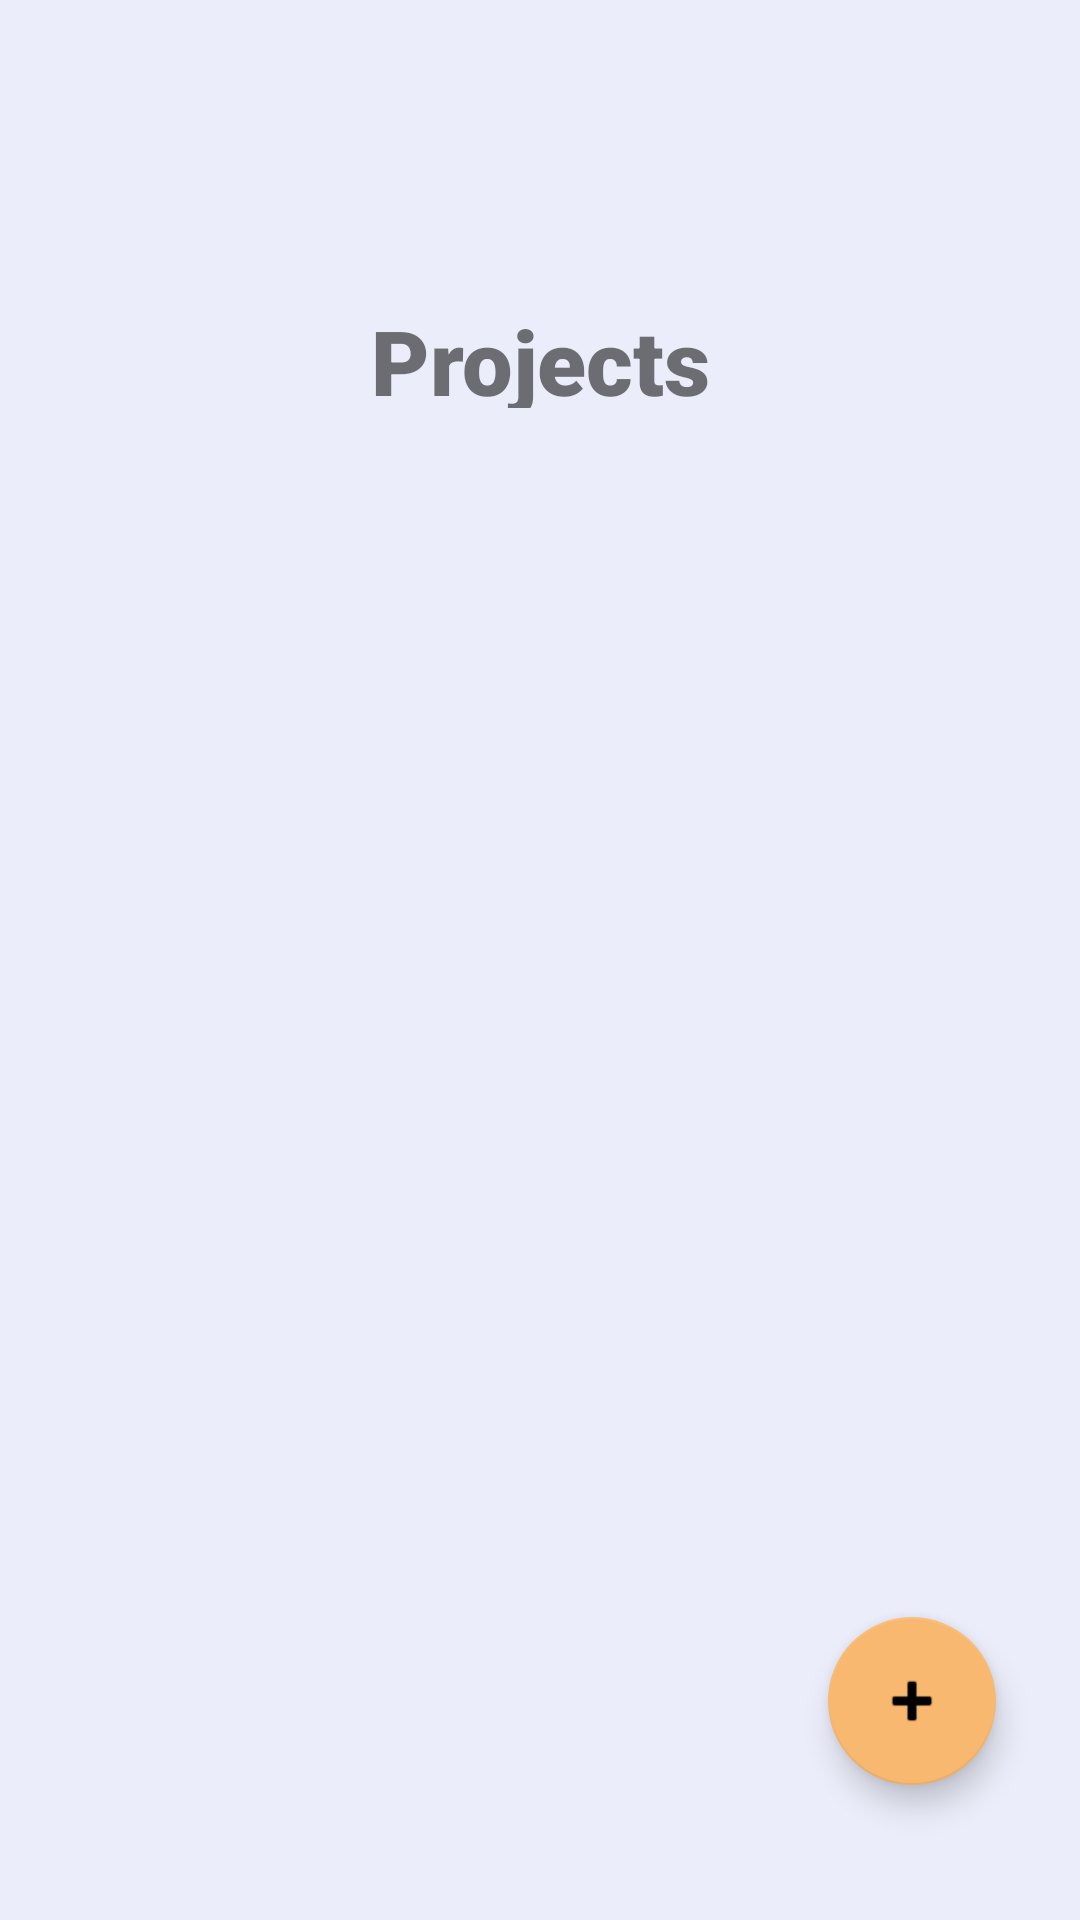

Icon bounding boxes for this 1080×1920 phone screenshot, format bbox(x1, y1, x2, y2):
add: bbox(828, 1617, 996, 1785)
